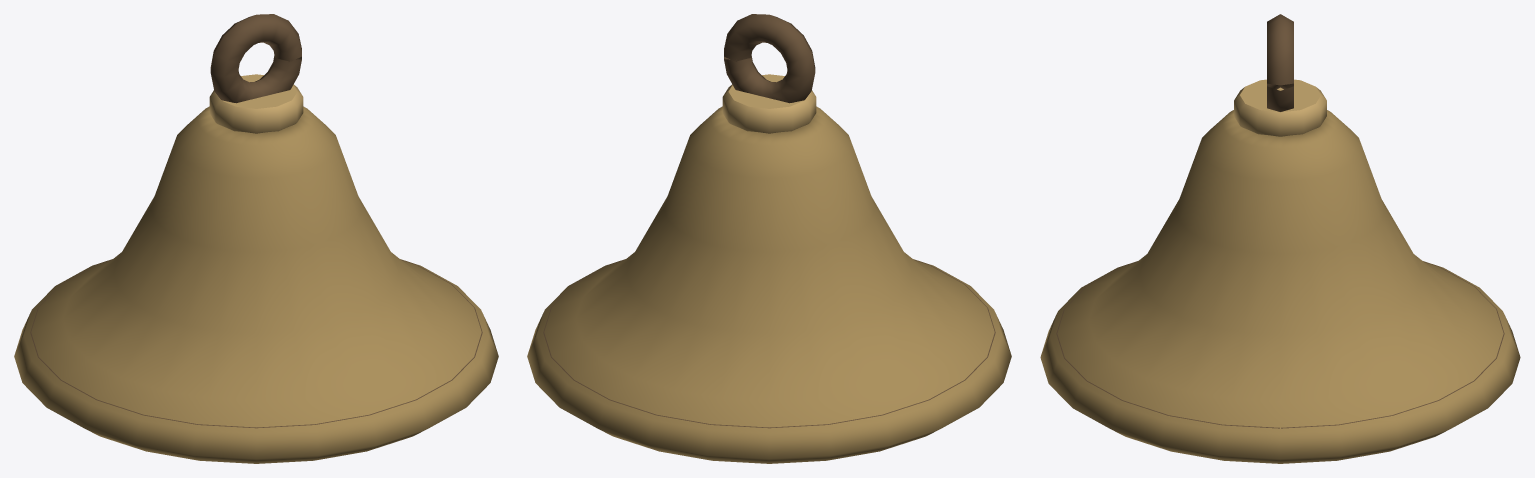
File: ferry_bell.glb
The picture shows the model from 3 angles, left to right: view 1: azimuth 30°, elevation 25°; view 2: azimuth 150°, elevation 25°; view 3: azimuth 270°, elevation 25°; orthographic projection.
Parts seen in each view (by area): view 1: ferry_bell; view 2: ferry_bell; view 3: ferry_bell.
Boxes of the visible parts, box(x1,y1,x2,y2) form: ferry_bell: box(14, 14, 498, 463); ferry_bell: box(527, 14, 1011, 463); ferry_bell: box(1040, 14, 1520, 463).
Bounding box in the file's own units: 0.248 × 0.218 × 0.248.
